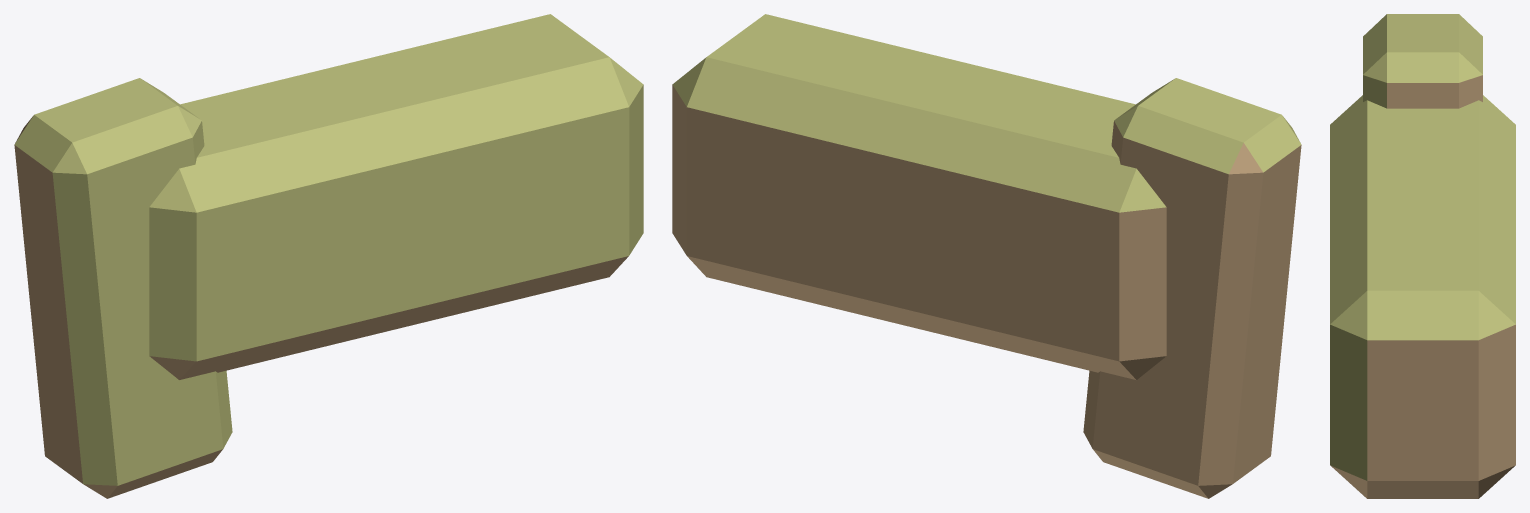
Rendered from npc_module_tool_head_v01.glb.
3 renders of one model, left to right at view 1: azimuth 30°, elevation 25°; view 2: azimuth 150°, elevation 25°; view 3: azimuth 270°, elevation 25°, orthographic. The views are drawn at different scales.
Visible parts, largest first — view 1: GEO_npc_module_tool_head_v01; view 2: GEO_npc_module_tool_head_v01; view 3: GEO_npc_module_tool_head_v01.
Part boxes in pixels (box(x1,y1,x2,y2)): GEO_npc_module_tool_head_v01: box(14, 14, 643, 498); GEO_npc_module_tool_head_v01: box(672, 14, 1301, 498); GEO_npc_module_tool_head_v01: box(1330, 14, 1515, 498).
Bounding box in the file's own units: 1.16 × 0.7177 × 0.34.
